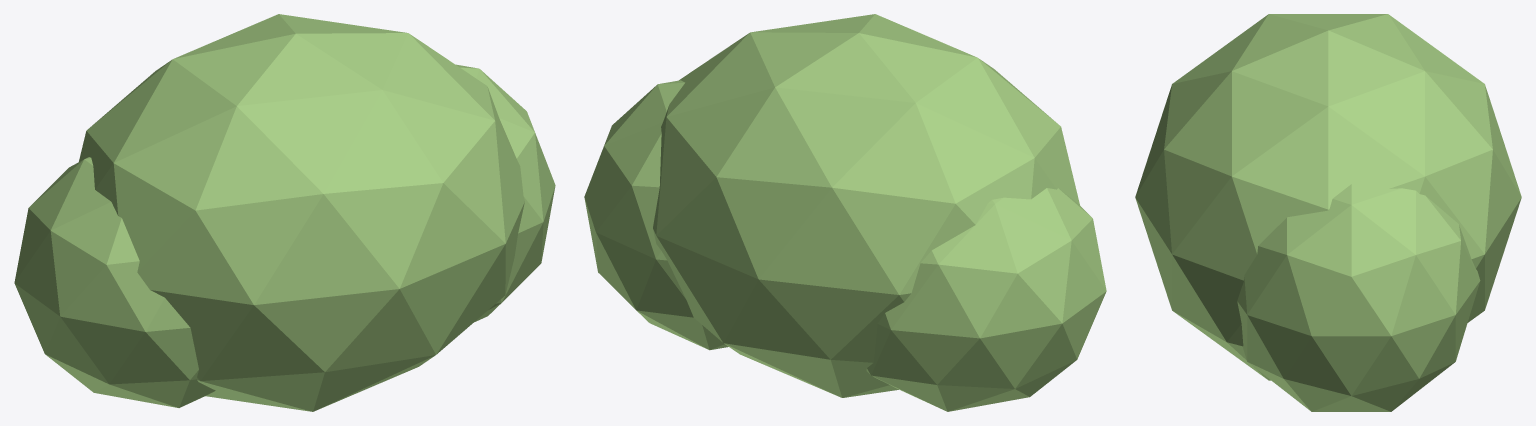
The model's file is bush.glb.
3 views of the same model, side by side, from view 1: azimuth 30°, elevation 25°; view 2: azimuth 150°, elevation 25°; view 3: azimuth 270°, elevation 25° (orthographic). The views are drawn at different scales.
Visible parts, largest first — view 1: bush; view 2: bush; view 3: bush.
Boxes of the visible parts, left/top/right/bottom form: bush: left=14, top=14, right=555, bottom=411; bush: left=584, top=14, right=1106, bottom=411; bush: left=1135, top=14, right=1521, bottom=411.
Size of the model in its own units: 1.16 by 0.8 by 0.84.
